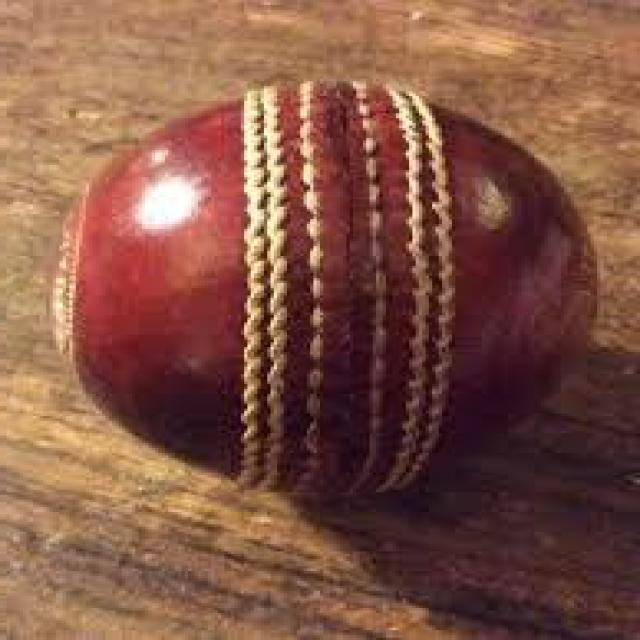ball: (53, 84, 594, 497)
